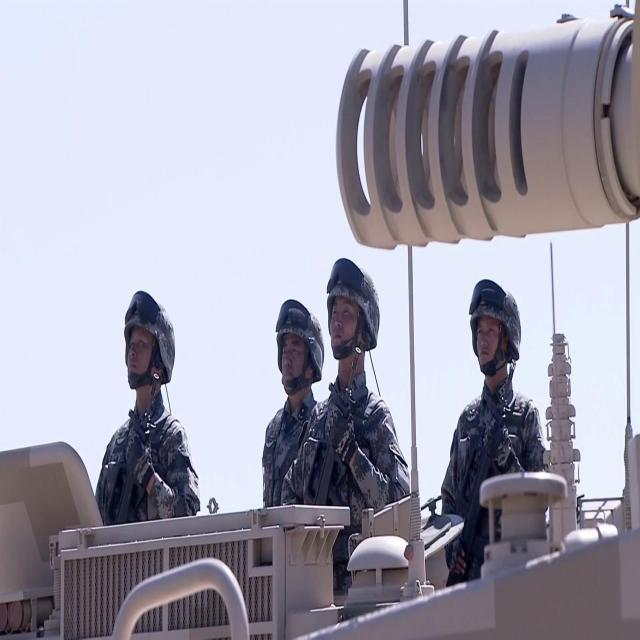Soldier: (102, 286, 196, 517), (324, 254, 384, 358), (468, 277, 523, 379), (275, 292, 326, 394)
